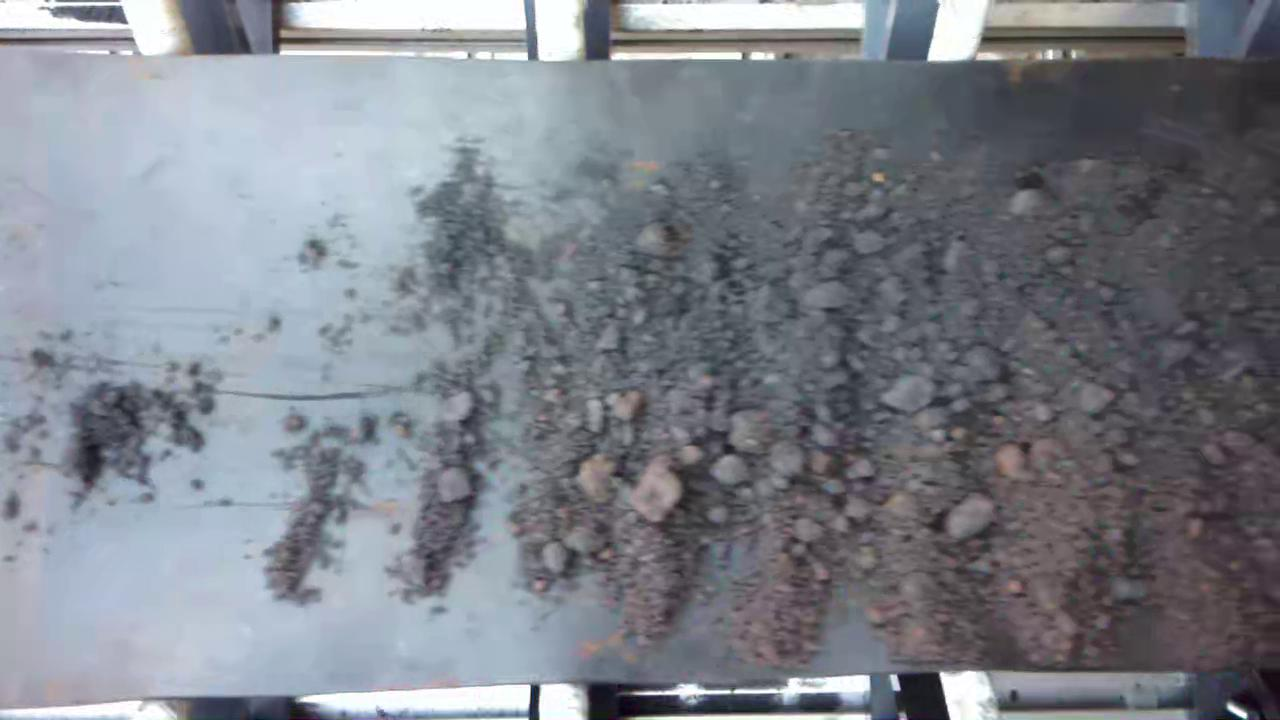conveyor: (0, 64, 1280, 668)
